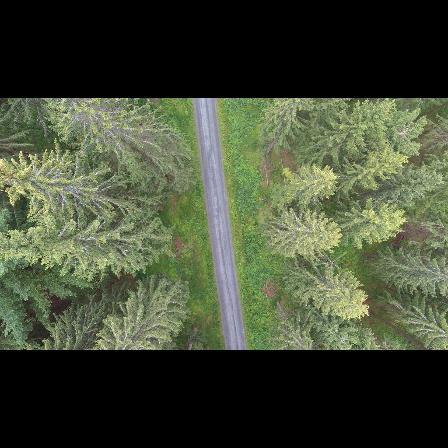Sick: (391, 112, 424, 149)
